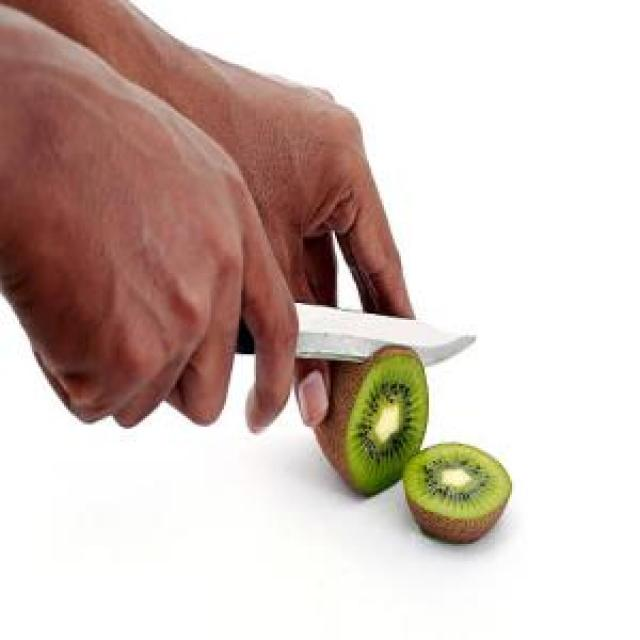knife: (117, 296, 480, 392)
